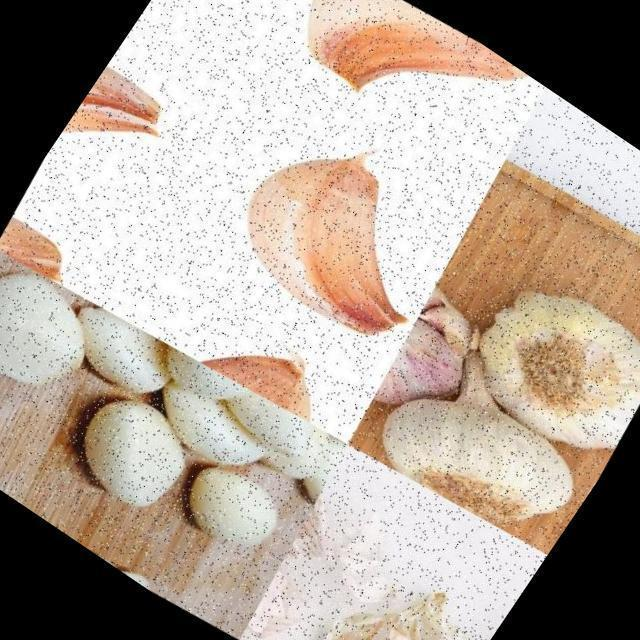garlic: (0, 220, 359, 616), (206, 96, 484, 368), (355, 347, 601, 568), (271, 0, 547, 187), (436, 247, 640, 485), (137, 270, 347, 442), (33, 56, 192, 228), (362, 278, 506, 440), (137, 0, 281, 59)
